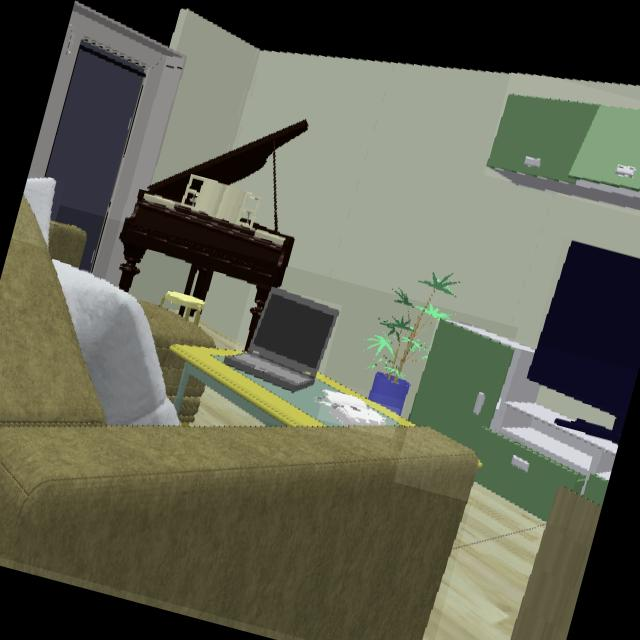book: (323, 392, 395, 426)
cabinet: (408, 319, 618, 521), (486, 95, 640, 211)
laptop: (229, 289, 339, 390)
monitor: (525, 241, 640, 438)
pillow: (50, 259, 179, 427), (22, 177, 56, 247)
sofa: (0, 195, 481, 640), (508, 487, 601, 640)
table: (167, 346, 400, 428)
